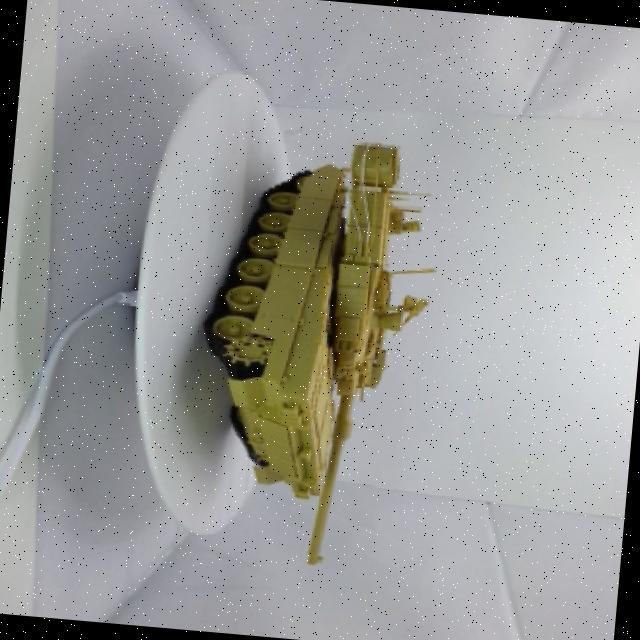korea tank: (180, 123, 468, 581)
